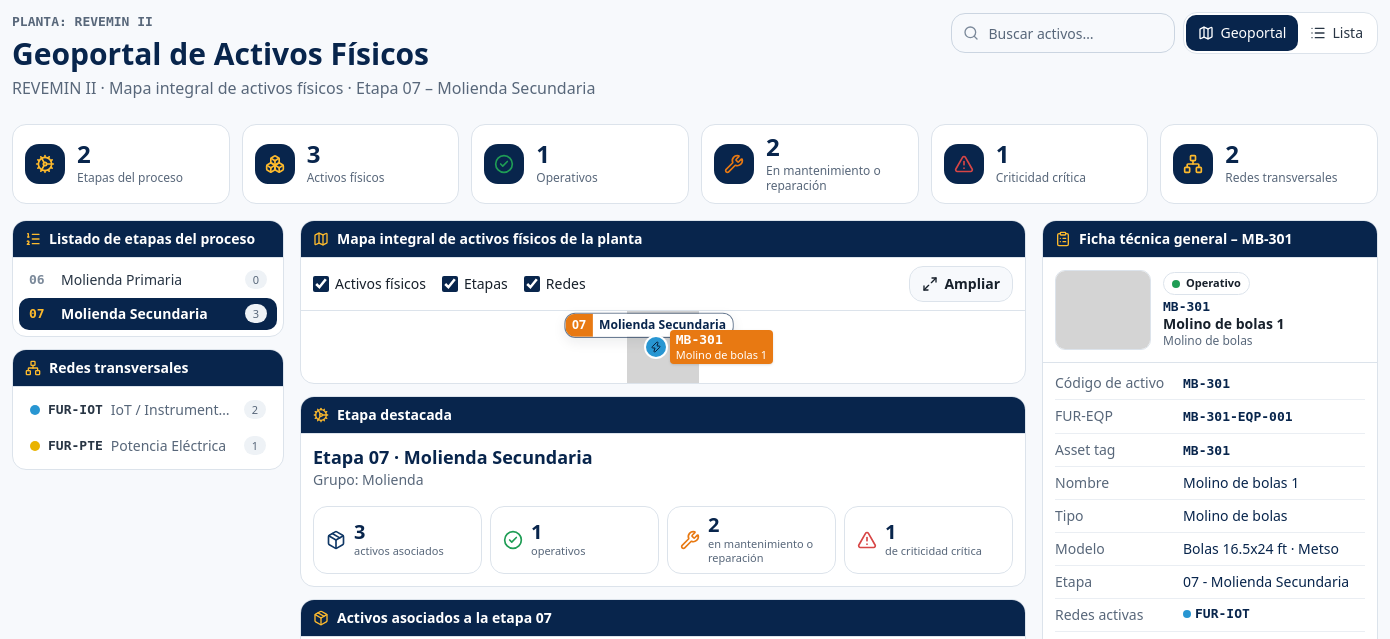
Test case: Geoportal de Activos Físicos › Mapa › las capas se activan y desactivan
The image size is (1390, 639).
expect the button with aria-label "Activo MB-301" is shown: met, box [656, 330, 773, 364]
Click the checkbox labelled "Activos físicos" at (321, 284), box [313, 276, 329, 292]
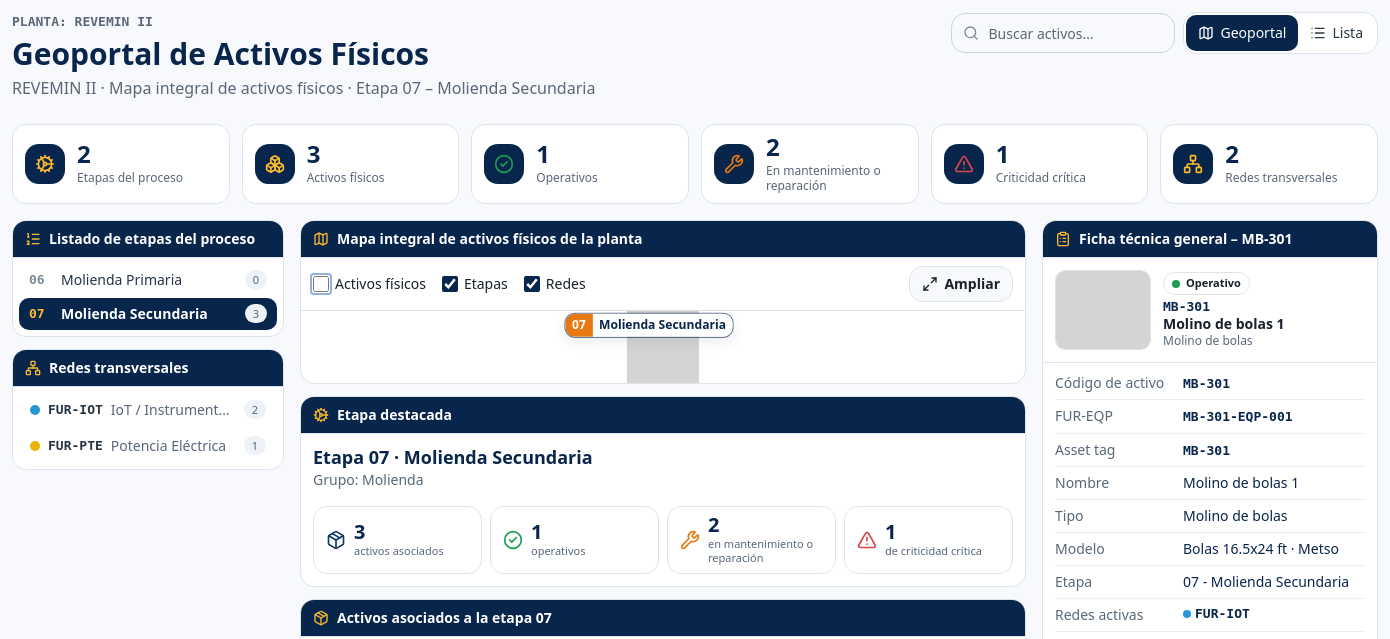
expect the button with aria-label "Etapa 07" is shown: met, box [564, 312, 733, 337]
Click the checkbox labelled "Etapas" at (450, 284), box [442, 276, 458, 292]
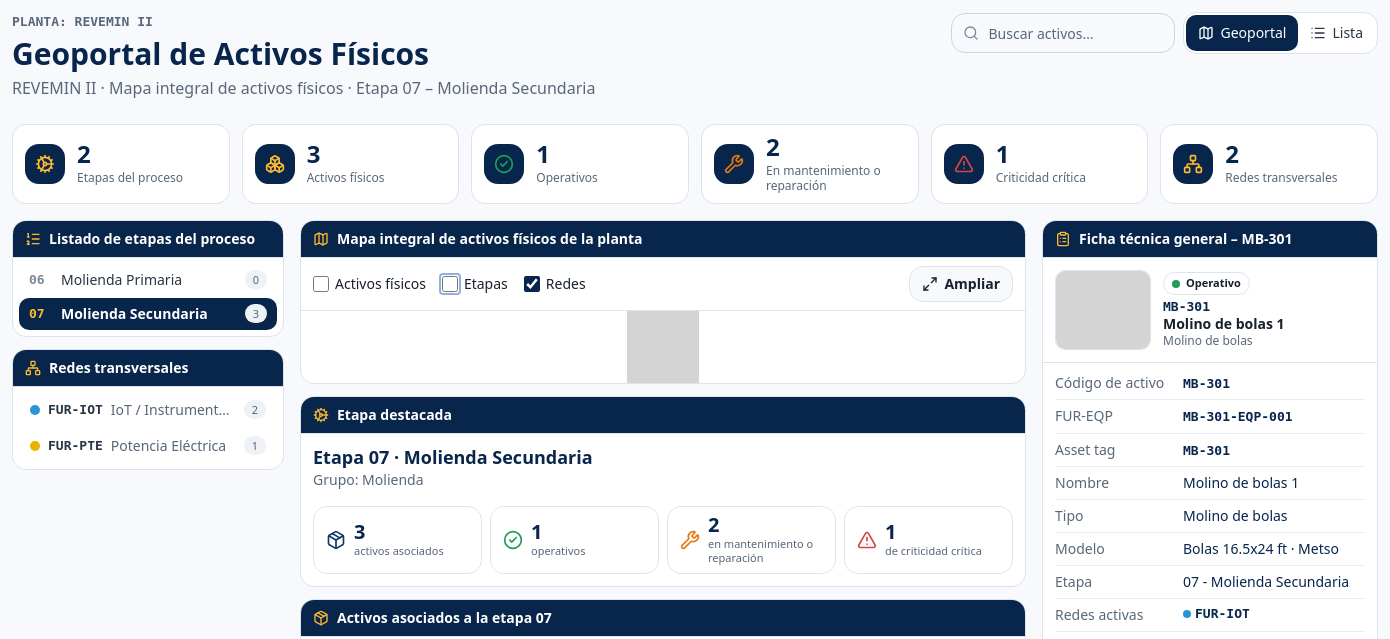
Click the checkbox labelled "Activos físicos" at (321, 284), box [313, 276, 329, 292]
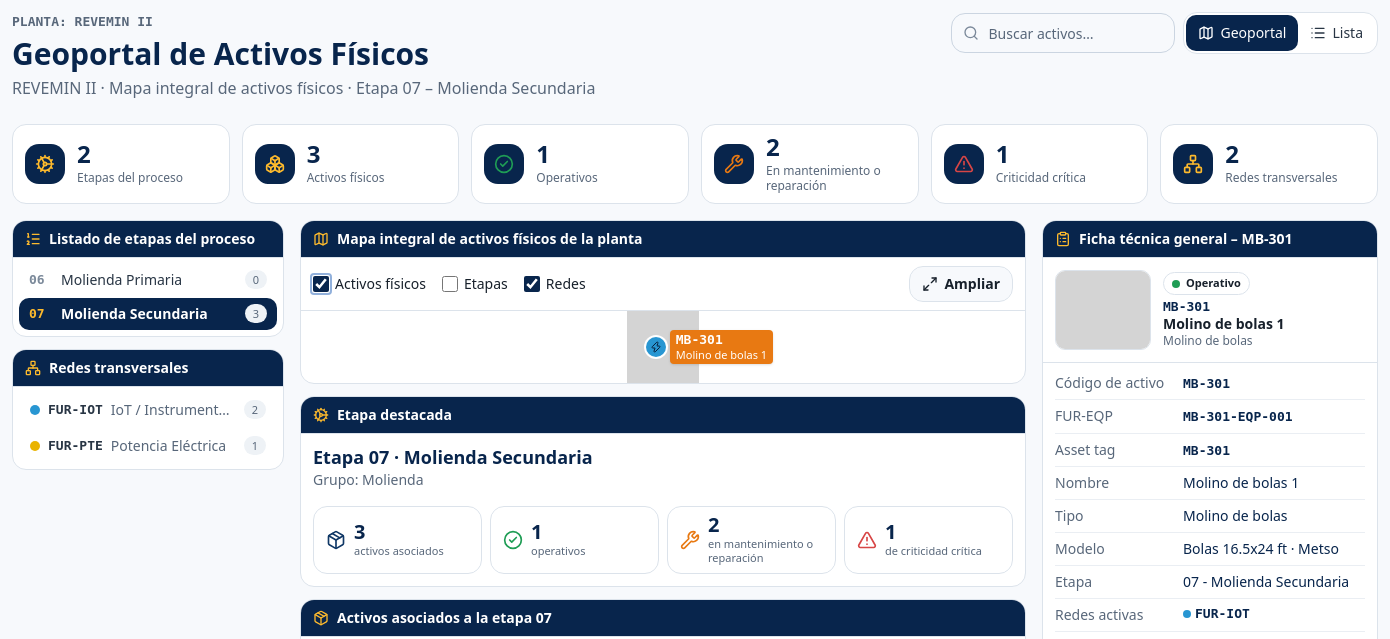
expect the button with aria-label "Activo MB-301" is shown: met, box [656, 330, 773, 364]
